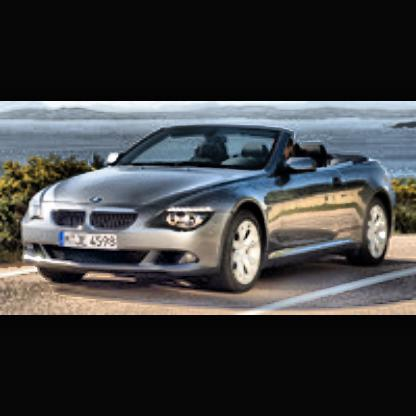BMW 6 Series Convertible 2007: (22, 128, 396, 290)
